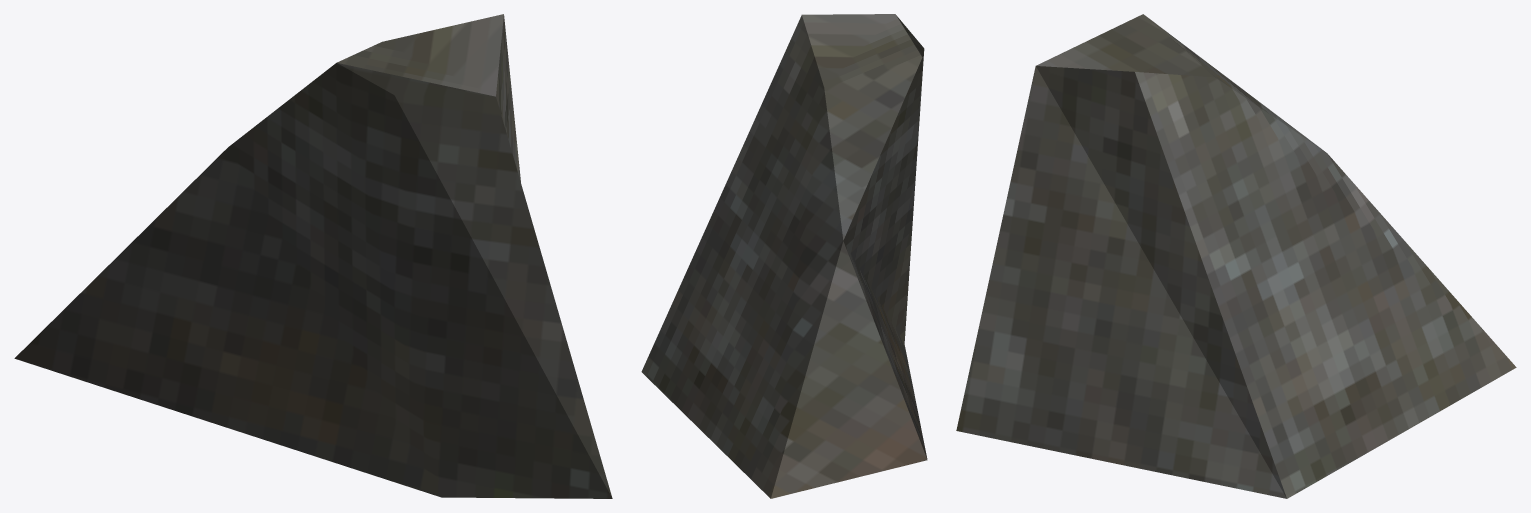
Rendered from pedra_pontuda.fbx.
3 views of the same model, side by side, from view 1: azimuth 30°, elevation 25°; view 2: azimuth 150°, elevation 25°; view 3: azimuth 270°, elevation 25° (orthographic). The views are drawn at different scales.
Parts seen in each view (by area): view 1: Icosphere.003; view 2: Icosphere.003; view 3: Icosphere.003.
Boxes of the visible parts, x1,y1,x2,y2 form: Icosphere.003: (14, 14, 612, 498); Icosphere.003: (641, 14, 927, 498); Icosphere.003: (956, 14, 1516, 498).
Bounding box in the file's own units: 385 × 355 × 479.
